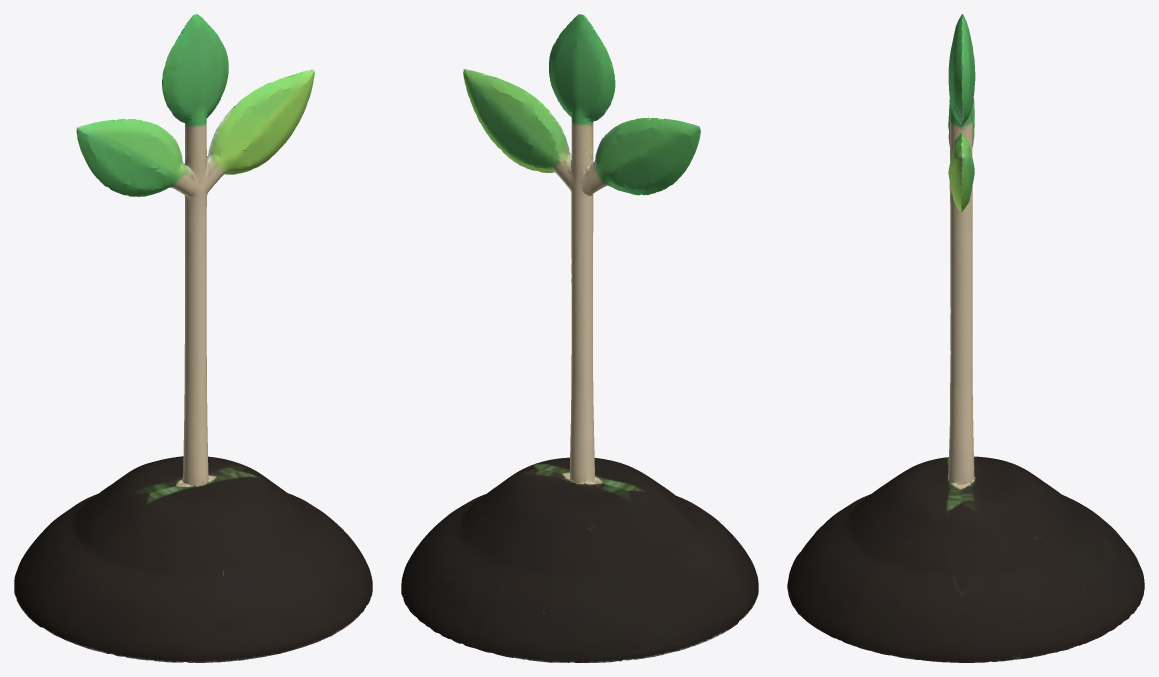
Rendered from sapling.glb.
3 renders of one model, left to right at view 1: azimuth 30°, elevation 25°; view 2: azimuth 150°, elevation 25°; view 3: azimuth 270°, elevation 25°, orthographic.
Parts seen in each view (by area): view 1: sapling; view 2: sapling; view 3: sapling.
Boxes of the visible parts, x1=… form: sapling: x1=14, y1=14, x2=372, y2=662; sapling: x1=401, y1=14, x2=758, y2=662; sapling: x1=787, y1=14, x2=1144, y2=662.
Size of the model in its own units: 0.5671 by 1 by 0.5657.
Materials: 1 (1 with a texture image).
